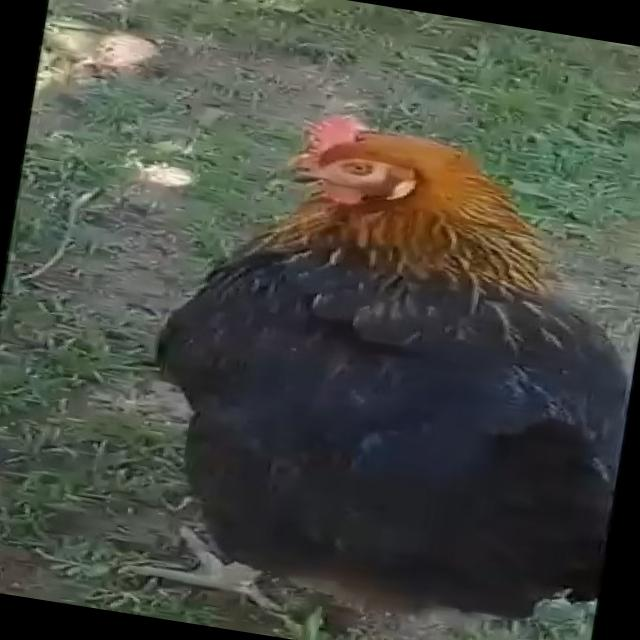self preening: (112, 88, 640, 638)
